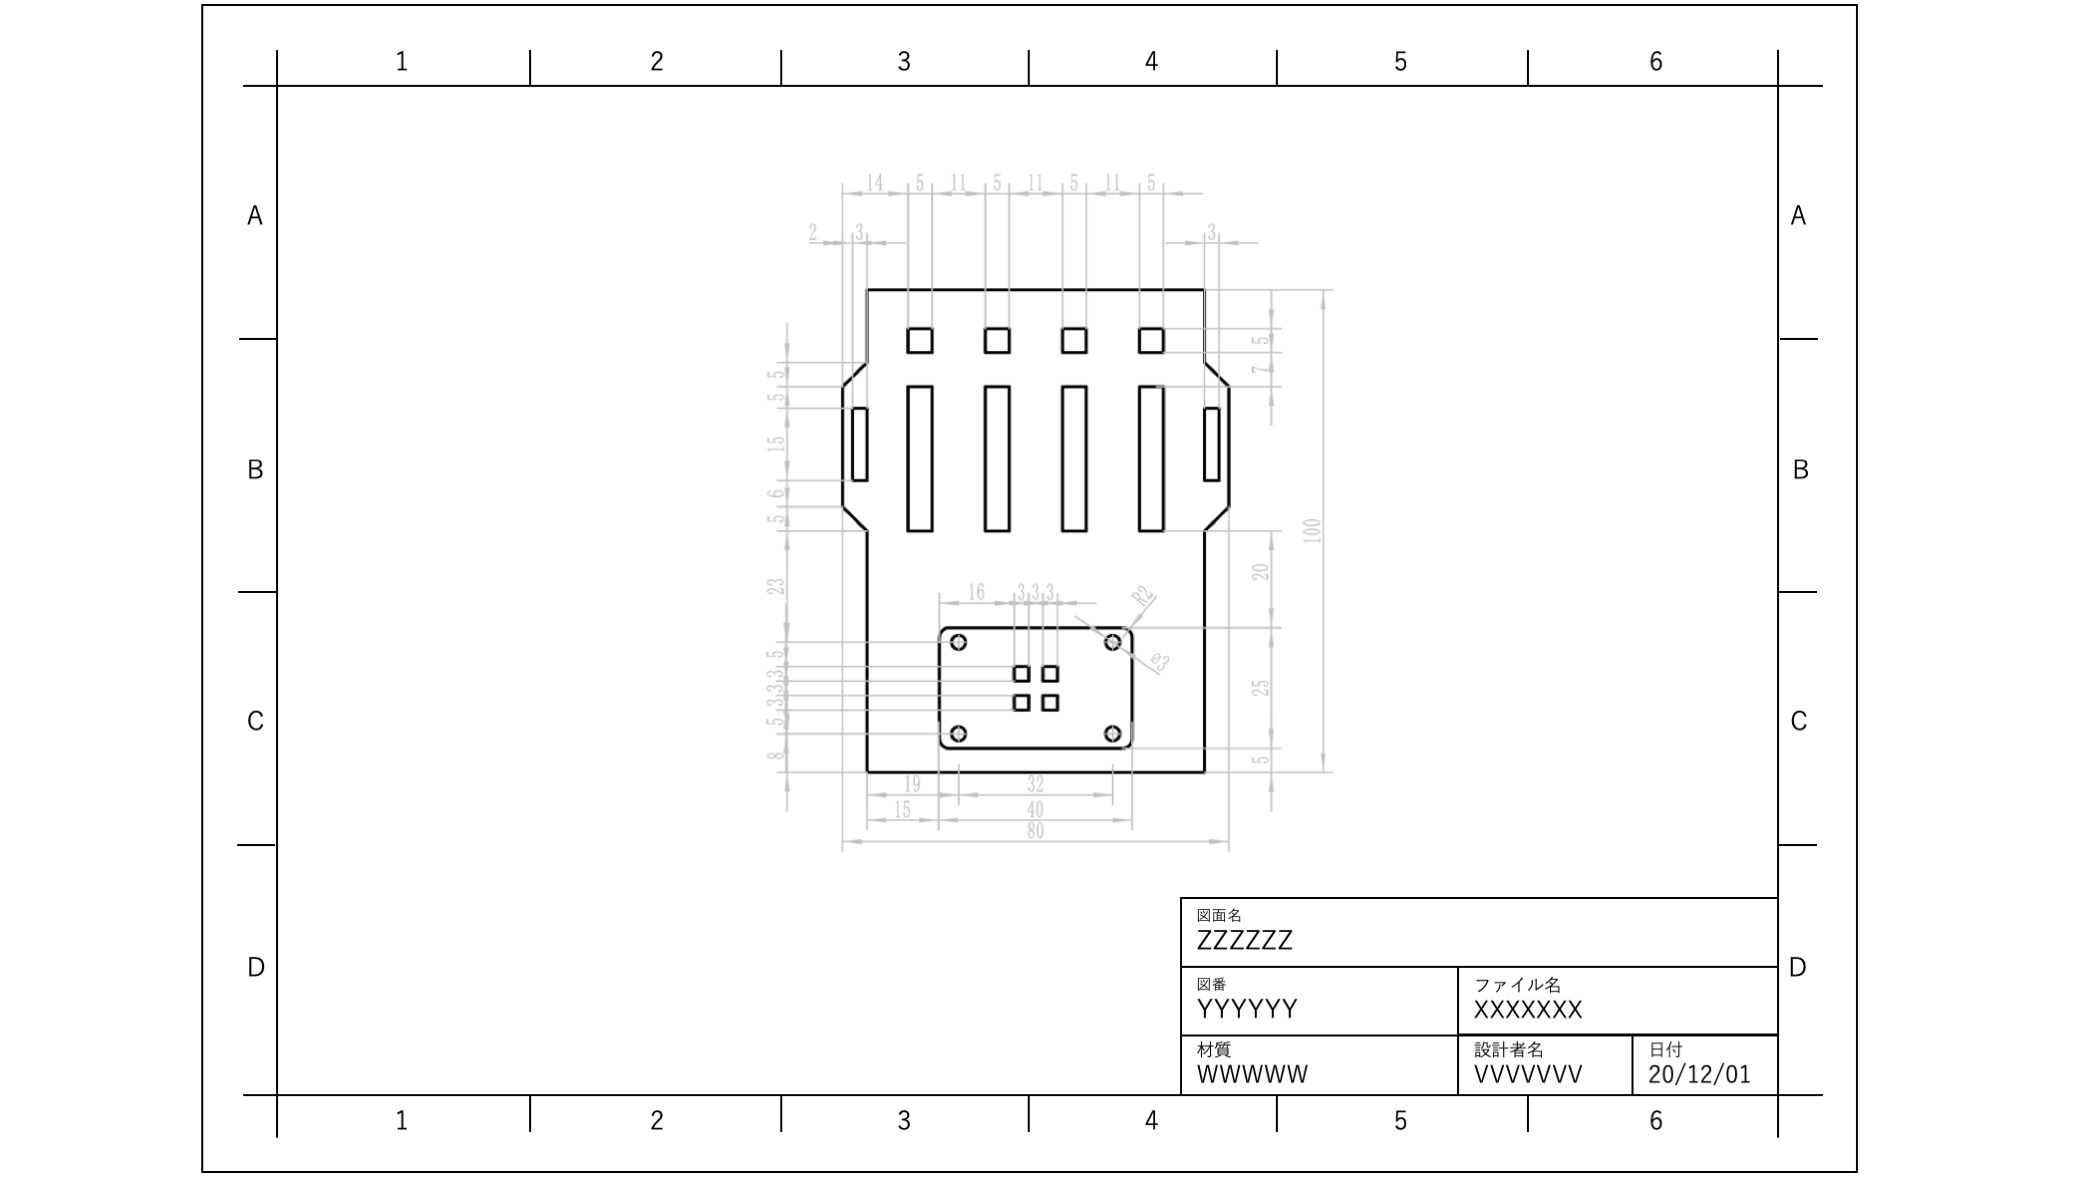circle: (946, 722, 971, 746), (1099, 632, 1122, 655), (1102, 721, 1124, 746), (948, 633, 968, 655)
rectangle: (1053, 379, 1093, 535), (899, 382, 939, 536), (976, 378, 1014, 541), (1134, 376, 1170, 538), (1196, 397, 1222, 486), (847, 401, 873, 485), (899, 322, 937, 355), (1054, 324, 1090, 358), (1134, 322, 1170, 355), (979, 323, 1015, 355), (1038, 660, 1063, 684), (1008, 660, 1033, 682), (1011, 689, 1031, 714), (1041, 692, 1059, 714)
